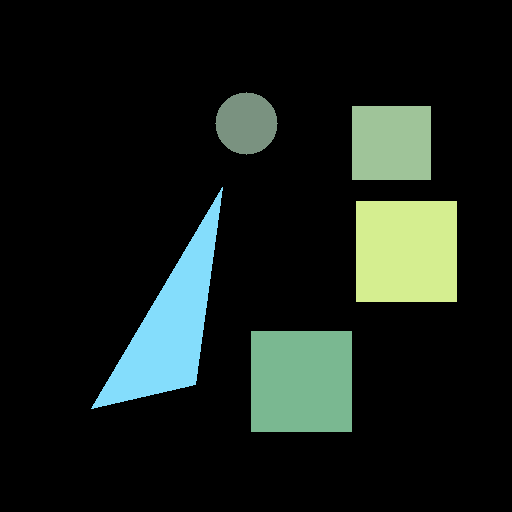circle: (215, 92, 277, 154)
square: (251, 331, 351, 431), (356, 201, 456, 301), (352, 106, 430, 179)
triangle: (91, 187, 222, 408)
